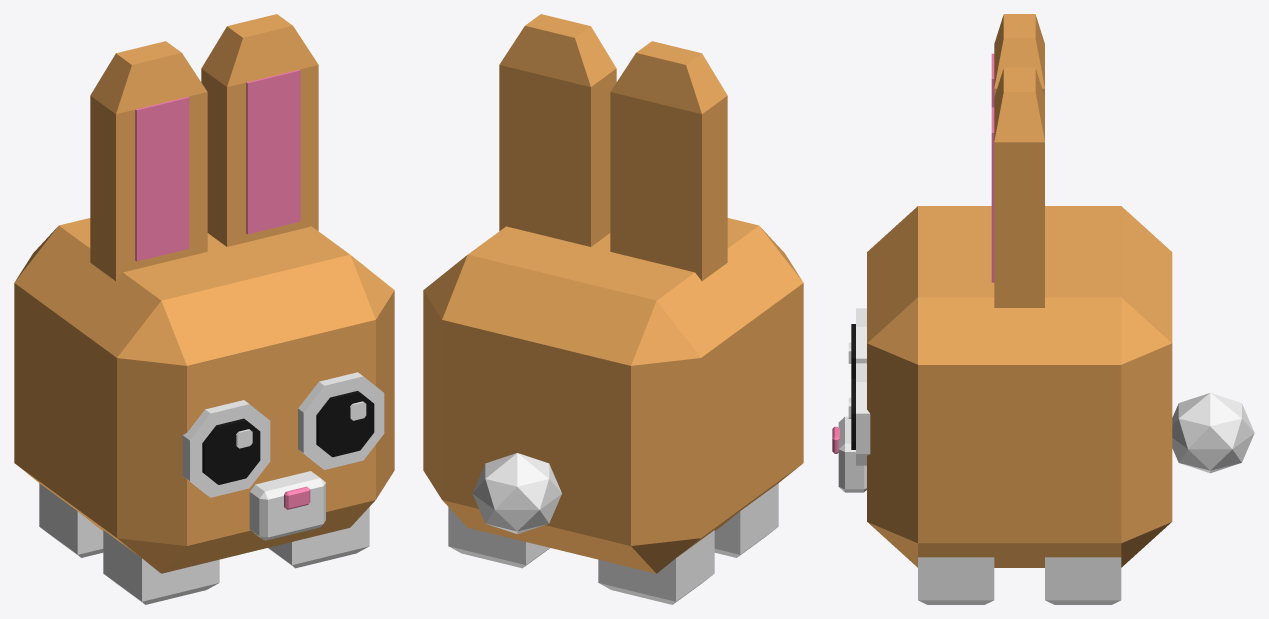
File: Bunny.fbx
The picture shows the model from 3 angles, left to right: view 1: azimuth 30°, elevation 25°; view 2: azimuth 150°, elevation 25°; view 3: azimuth 270°, elevation 25°; orthographic projection.
Parts seen in each view (by area): view 1: Bunny, Bunny_Ears, Bunny_Pink, Bunny_White, Bunny_Eyes, Bunny_Pupils; view 2: Bunny, Bunny_Ears, Bunny_White; view 3: Bunny, Bunny_Ears, Bunny_White, Bunny_Eyes, Bunny_Pink, Bunny_Pupils.
Part boxes in pixels (left/top/right/bottom): Bunny: left=14, top=218, right=394, bottom=573; Bunny_Ears: left=90, top=14, right=318, bottom=280; Bunny_Pink: left=135, top=69, right=310, bottom=509; Bunny_White: left=39, top=471, right=369, bottom=604; Bunny_Eyes: left=182, top=372, right=384, bottom=497; Bunny_Pupils: left=202, top=391, right=374, bottom=484; Bunny: left=423, top=218, right=803, bottom=573; Bunny_Ears: left=499, top=14, right=727, bottom=280; Bunny_White: left=448, top=453, right=778, bottom=604; Bunny: left=867, top=206, right=1172, bottom=567; Bunny_Ears: left=994, top=14, right=1044, bottom=307; Bunny_White: left=838, top=392, right=1254, bottom=604; Bunny_Eyes: left=848, top=308, right=870, bottom=465; Bunny_Pink: left=832, top=53, right=994, bottom=453; Bunny_Pupils: left=851, top=324, right=855, bottom=449.
Bounding box in the file's own units: 2 × 3.48 × 2.66.
